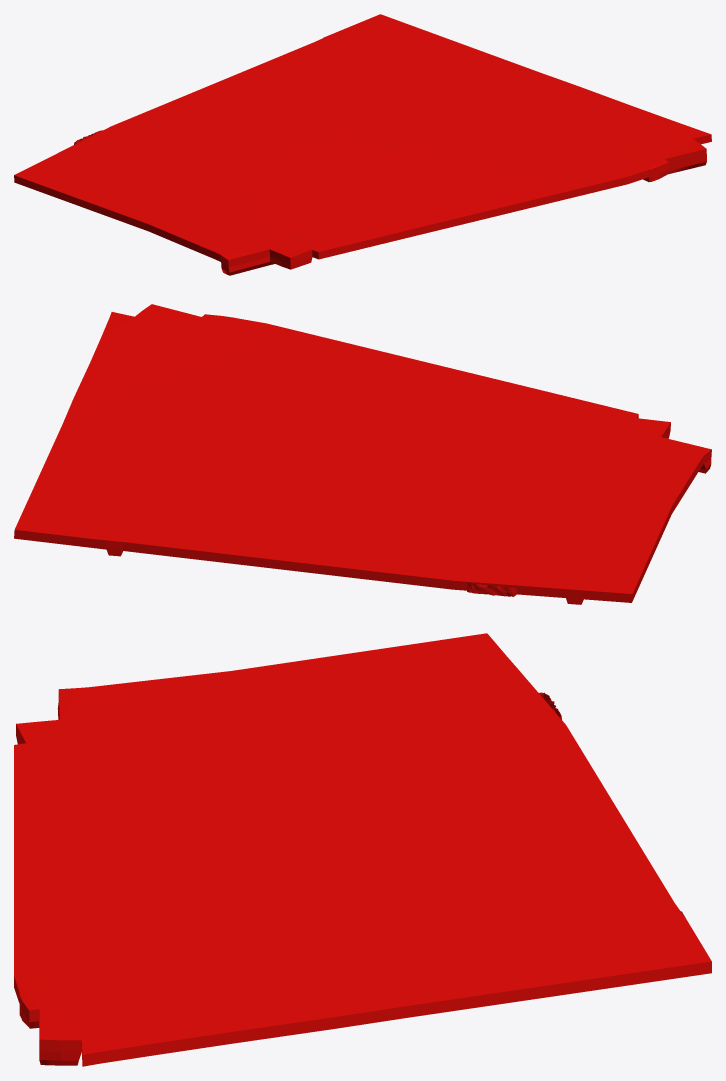
3 renders of one model, top to bottom at view 1: azimuth 30°, elevation 25°; view 2: azimuth 150°, elevation 25°; view 3: azimuth 270°, elevation 25°, orthographic. The views are drawn at different scales.
Visible parts, largest first — view 1: Plane; view 2: Plane; view 3: Plane.
Boxes of the visible parts, bbox=[...] form: Plane: bbox=[14, 14, 711, 275]; Plane: bbox=[14, 304, 711, 604]; Plane: bbox=[14, 633, 711, 1066].
Size of the model in its own units: 9232 by 270 by 6455.
